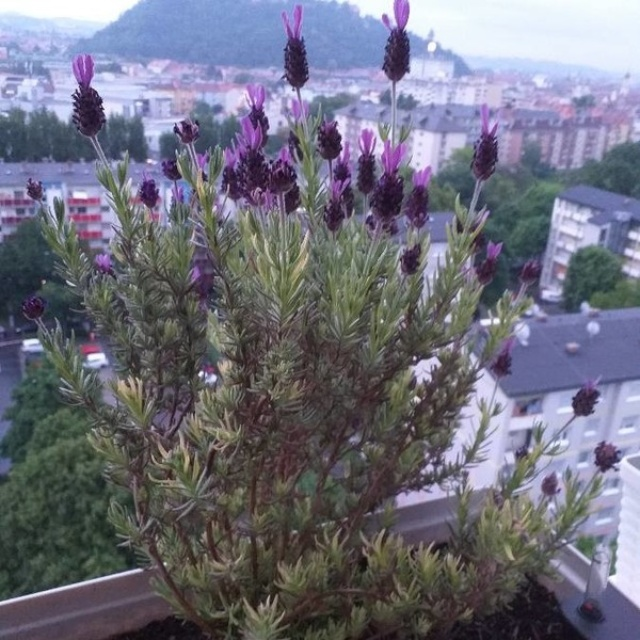obstacle: (33, 29, 569, 597)
